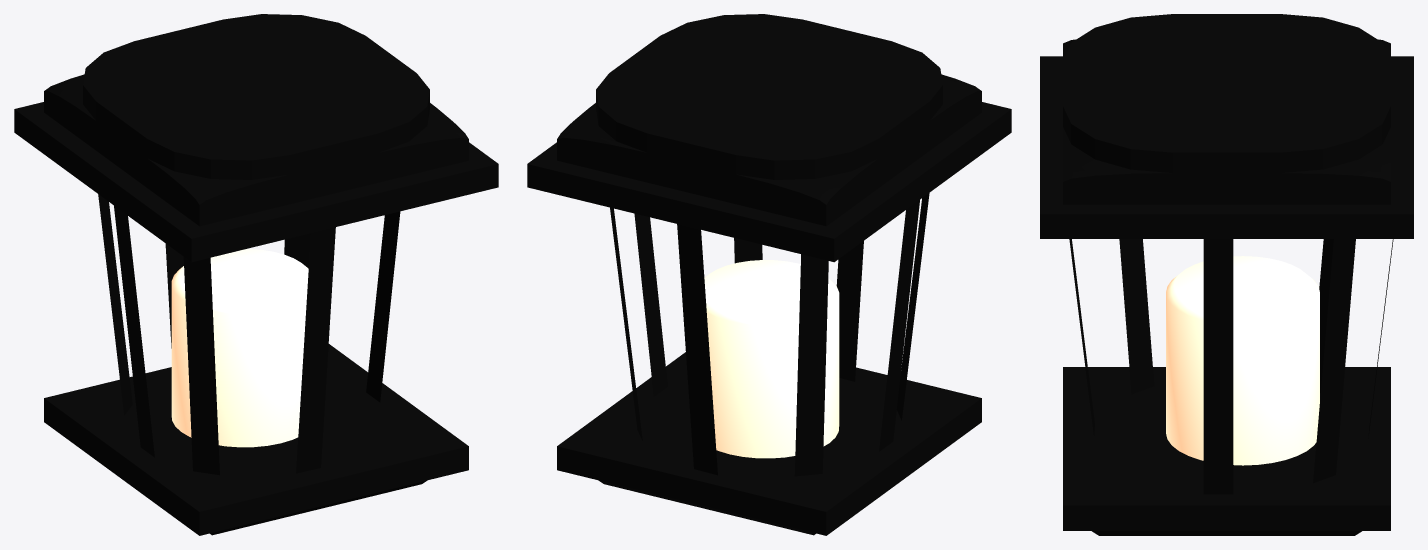
File: lantern.glb
The picture shows the model from 3 angles, left to right: view 1: azimuth 30°, elevation 25°; view 2: azimuth 150°, elevation 25°; view 3: azimuth 270°, elevation 25°; orthographic projection. The views are drawn at different scales.
Visible parts, largest first — view 1: Cube, Circle; view 2: Cube, Circle; view 3: Cube, Circle.
Part boxes in pixels (bbox=[...]): Cube: bbox=[14, 14, 498, 535]; Circle: bbox=[171, 249, 308, 447]; Cube: bbox=[527, 14, 1011, 535]; Circle: bbox=[704, 260, 839, 458]; Cube: bbox=[1040, 14, 1413, 535]; Circle: bbox=[1166, 256, 1319, 465].
Bounding box in the file's own units: 0.5654 × 0.665 × 0.5654.
